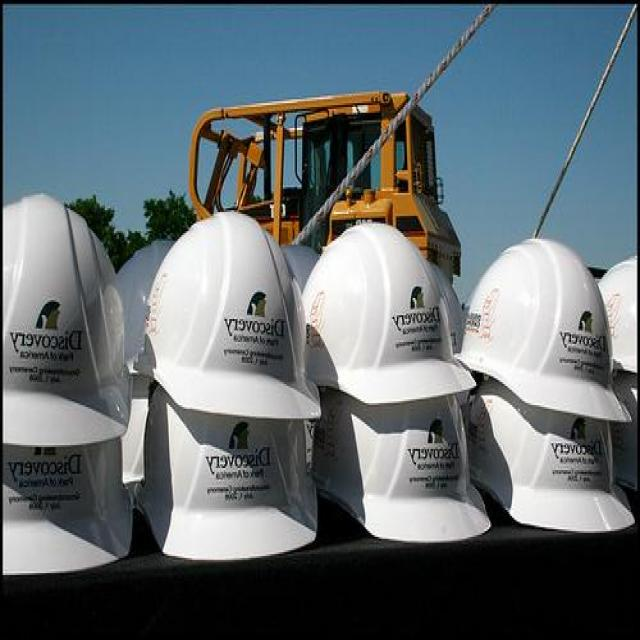Safety-Helmet: (142, 210, 324, 424), (300, 216, 478, 413), (457, 233, 634, 430)
